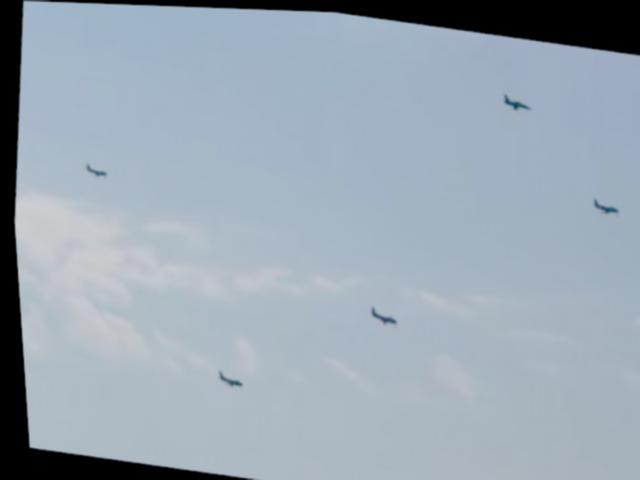uav: (359, 298, 399, 328), (209, 364, 244, 394), (586, 187, 619, 218), (498, 85, 533, 113), (77, 155, 110, 182)
